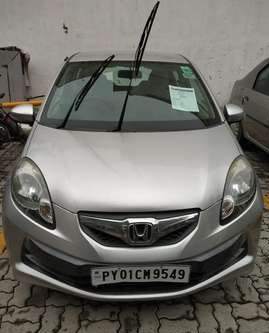PY01CM9549: (91, 264, 189, 285)
